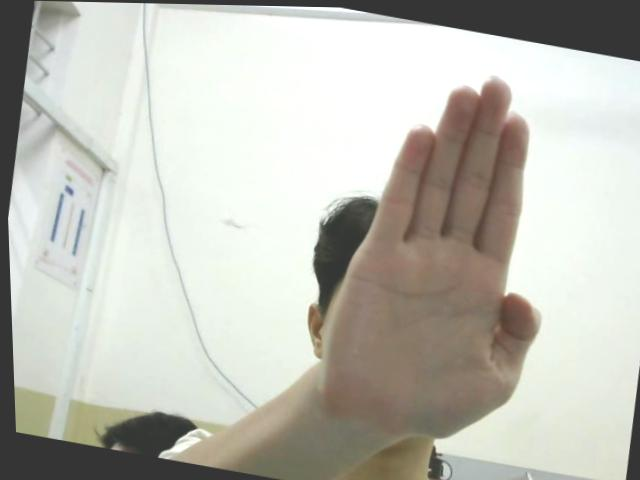B: (298, 48, 577, 453)
